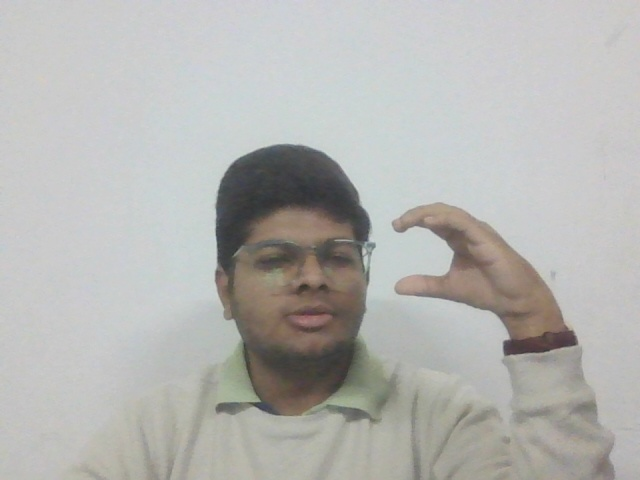C: (390, 200, 534, 321)
